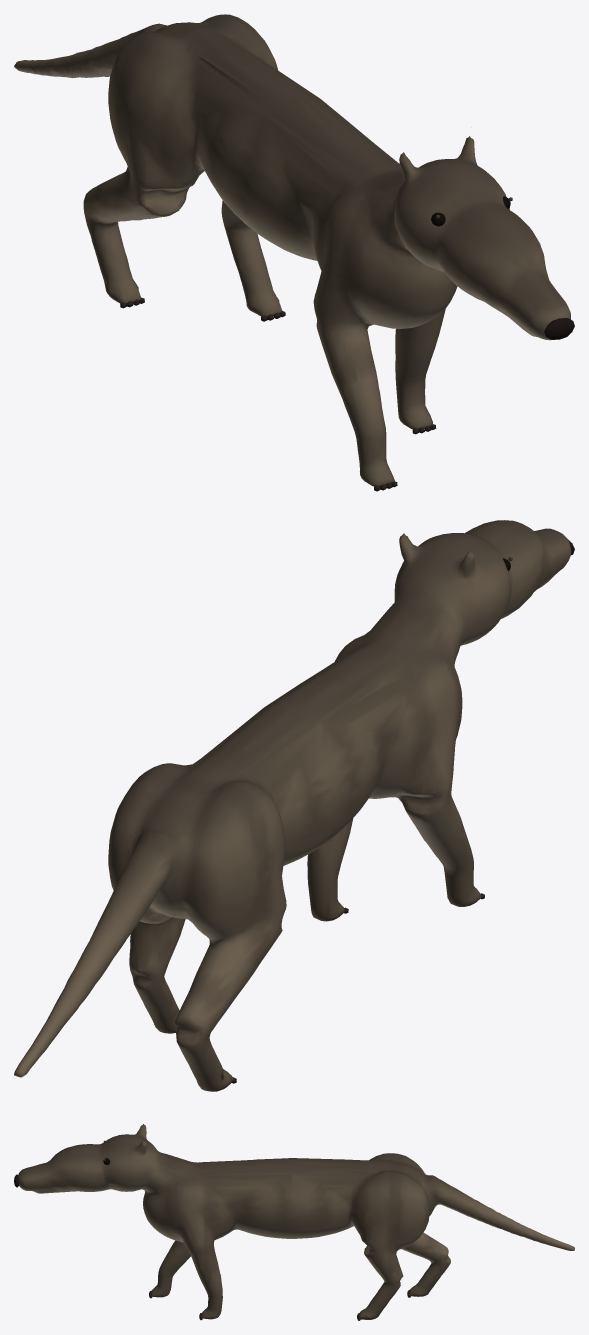
Rendered from MesonyxObtusidens.fbx.
3 renders of one model, top to bottom at view 1: azimuth 30°, elevation 25°; view 2: azimuth 150°, elevation 25°; view 3: azimuth 270°, elevation 25°, orthographic. The views are drawn at different scales.
Visible parts, largest first — view 1: MesonyxObtusidens; view 2: MesonyxObtusidens; view 3: MesonyxObtusidens.
Part boxes in pixels (x1,y1,x2,y2): MesonyxObtusidens: [14, 14, 574, 491]; MesonyxObtusidens: [14, 520, 574, 1091]; MesonyxObtusidens: [14, 1124, 574, 1320].
Size of the model in its own units: 0.3463 by 0.7813 by 2.23.
